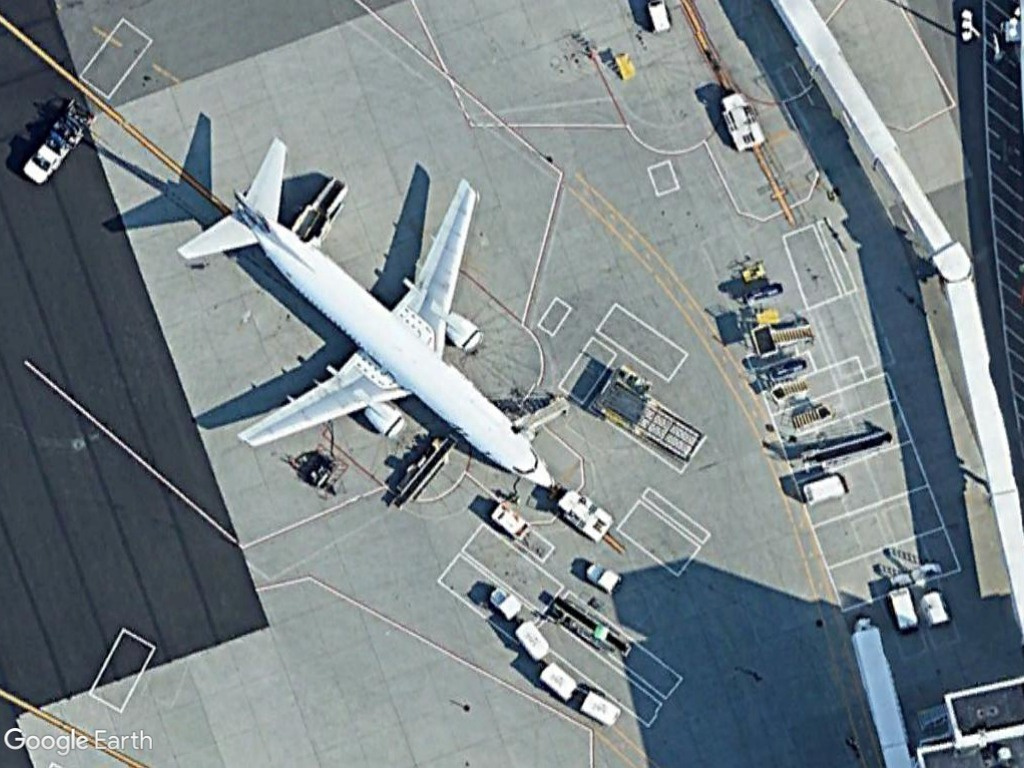airliner: (178, 130, 552, 494)
stairtruck: (291, 174, 353, 244), (745, 316, 822, 364)
